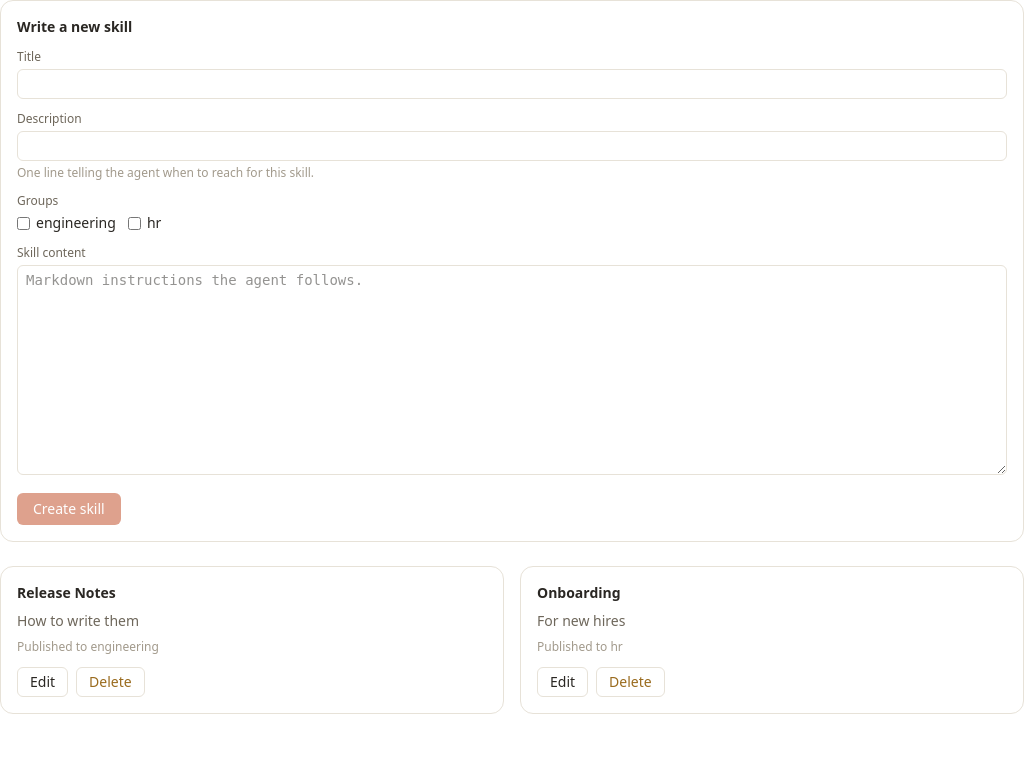
Test: SkillAuthoring › edit reads the published body back and prefills the editor with it
The width and height of the screenshot is (1024, 768).
Click the button "Edit" below "Published to engineering".
click(43, 682)  # box [17, 667, 68, 697]
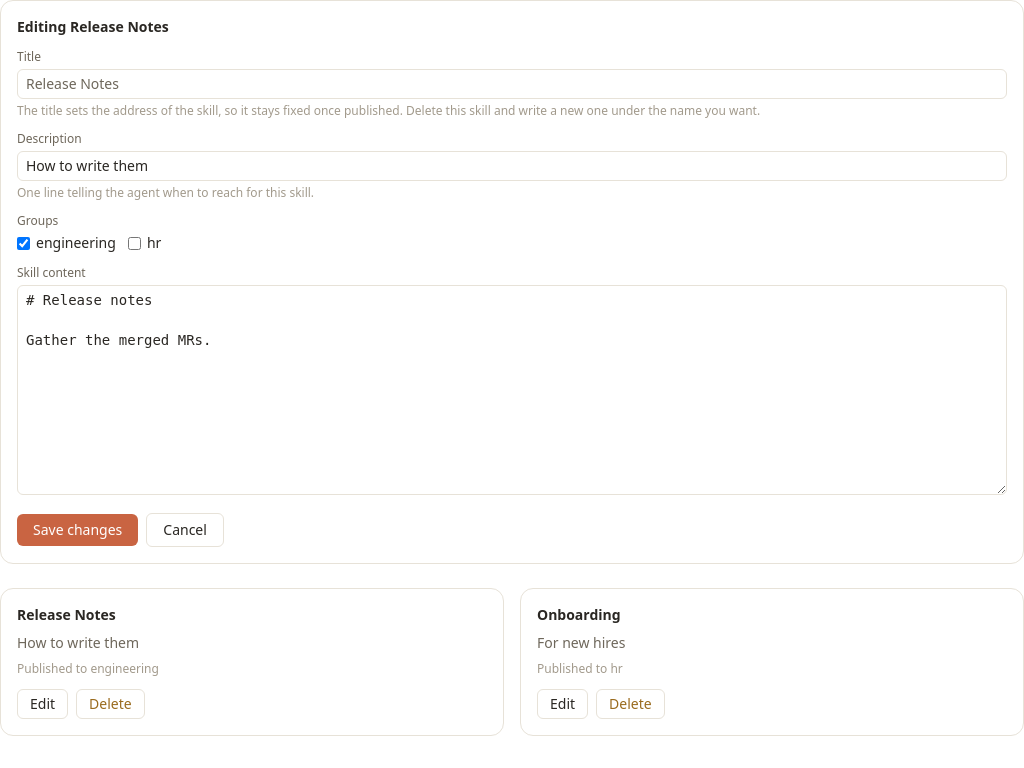
Check: the field labelled "Description" holds "How to write them", box [17, 151, 1007, 181]
